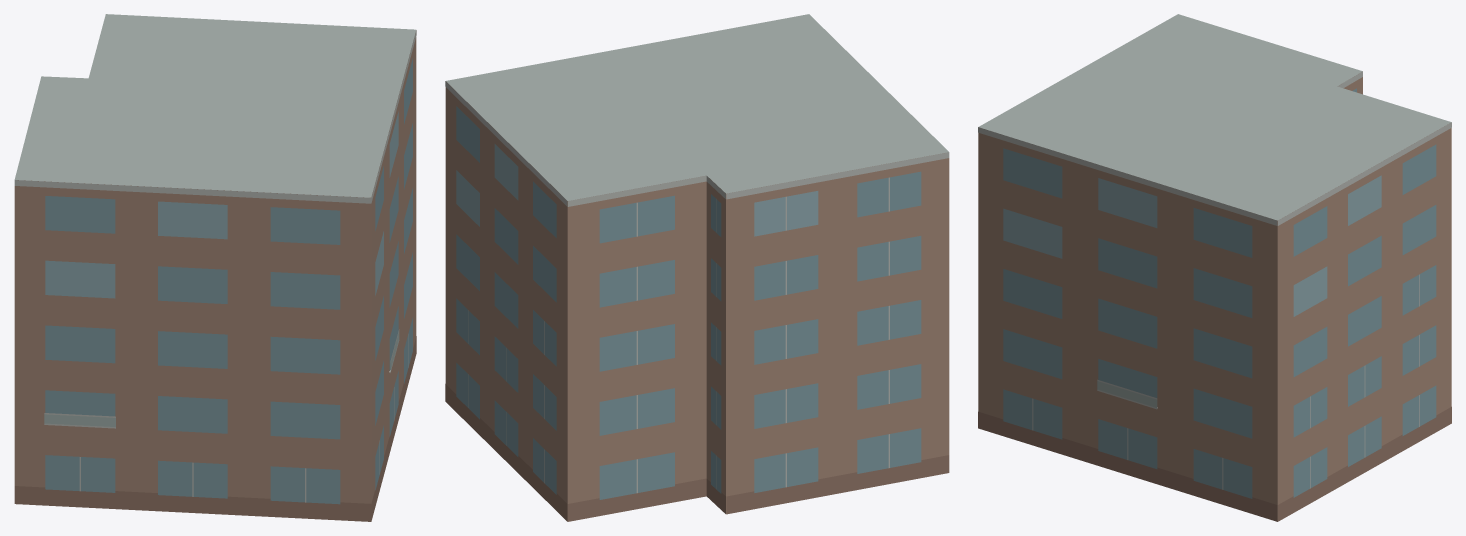
The model's file is survey-upis-32918977.glb.
3 renders of one model, left to right at view 1: azimuth 30°, elevation 25°; view 2: azimuth 150°, elevation 25°; view 3: azimuth 270°, elevation 25°, orthographic. The views are drawn at different scales.
Parts seen in each view (by area): view 1: survey-upis-32918977.tmp; view 2: survey-upis-32918977.tmp; view 3: survey-upis-32918977.tmp.
Boxes of the visible parts, x1=… form: survey-upis-32918977.tmp: x1=14, y1=14, x2=416, y2=521; survey-upis-32918977.tmp: x1=445, y1=14, x2=949, y2=521; survey-upis-32918977.tmp: x1=978, y1=14, x2=1451, y2=521.
Bounding box in the file's own units: 19.49 × 13.25 × 18.88.
